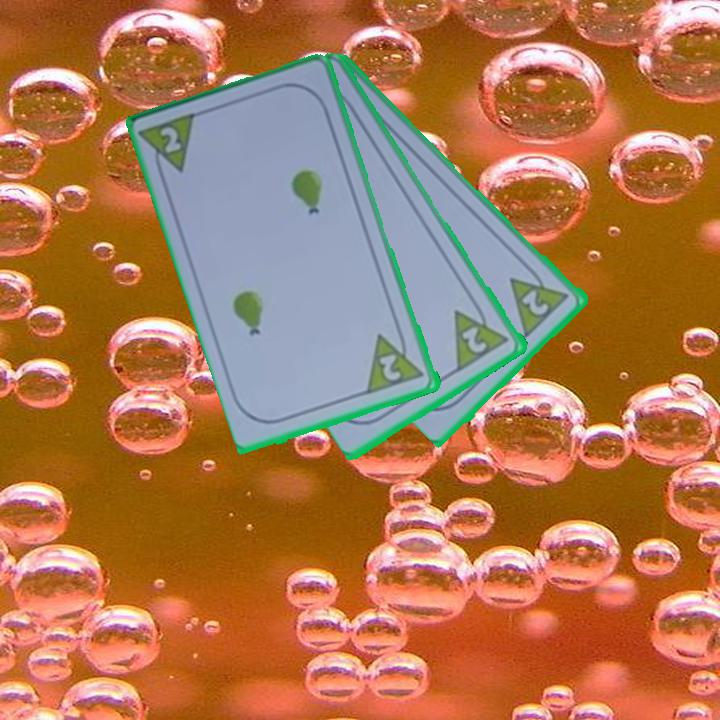2p: (507, 260, 573, 339), (450, 296, 513, 374), (138, 108, 201, 184), (364, 325, 428, 397)
